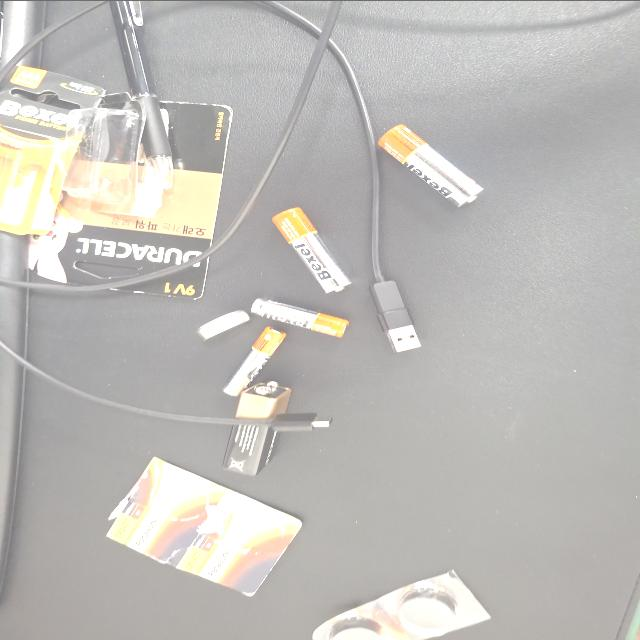9V: (220, 326, 344, 378)
AA: (465, 364, 574, 424), (578, 444, 640, 523)
AAA: (332, 328, 414, 373), (406, 347, 454, 422)
COIN: (400, 308, 440, 348)
